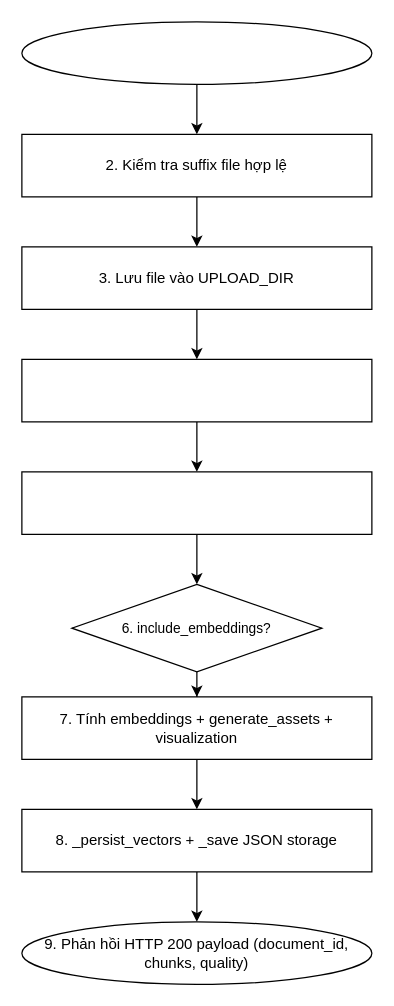
This 394x1006 diagram has some shape labels left out. Here are the shapes that lost their labels. From the top down, the centre of each, then its label:
At (196,52): "1. Người dùng: POST /documents/ingest".
At (196,390): "4. DocumentService.ingest_file_async()".
At (196,502): "5. IngestPipeline.ingest: parse, clean, chunk".
